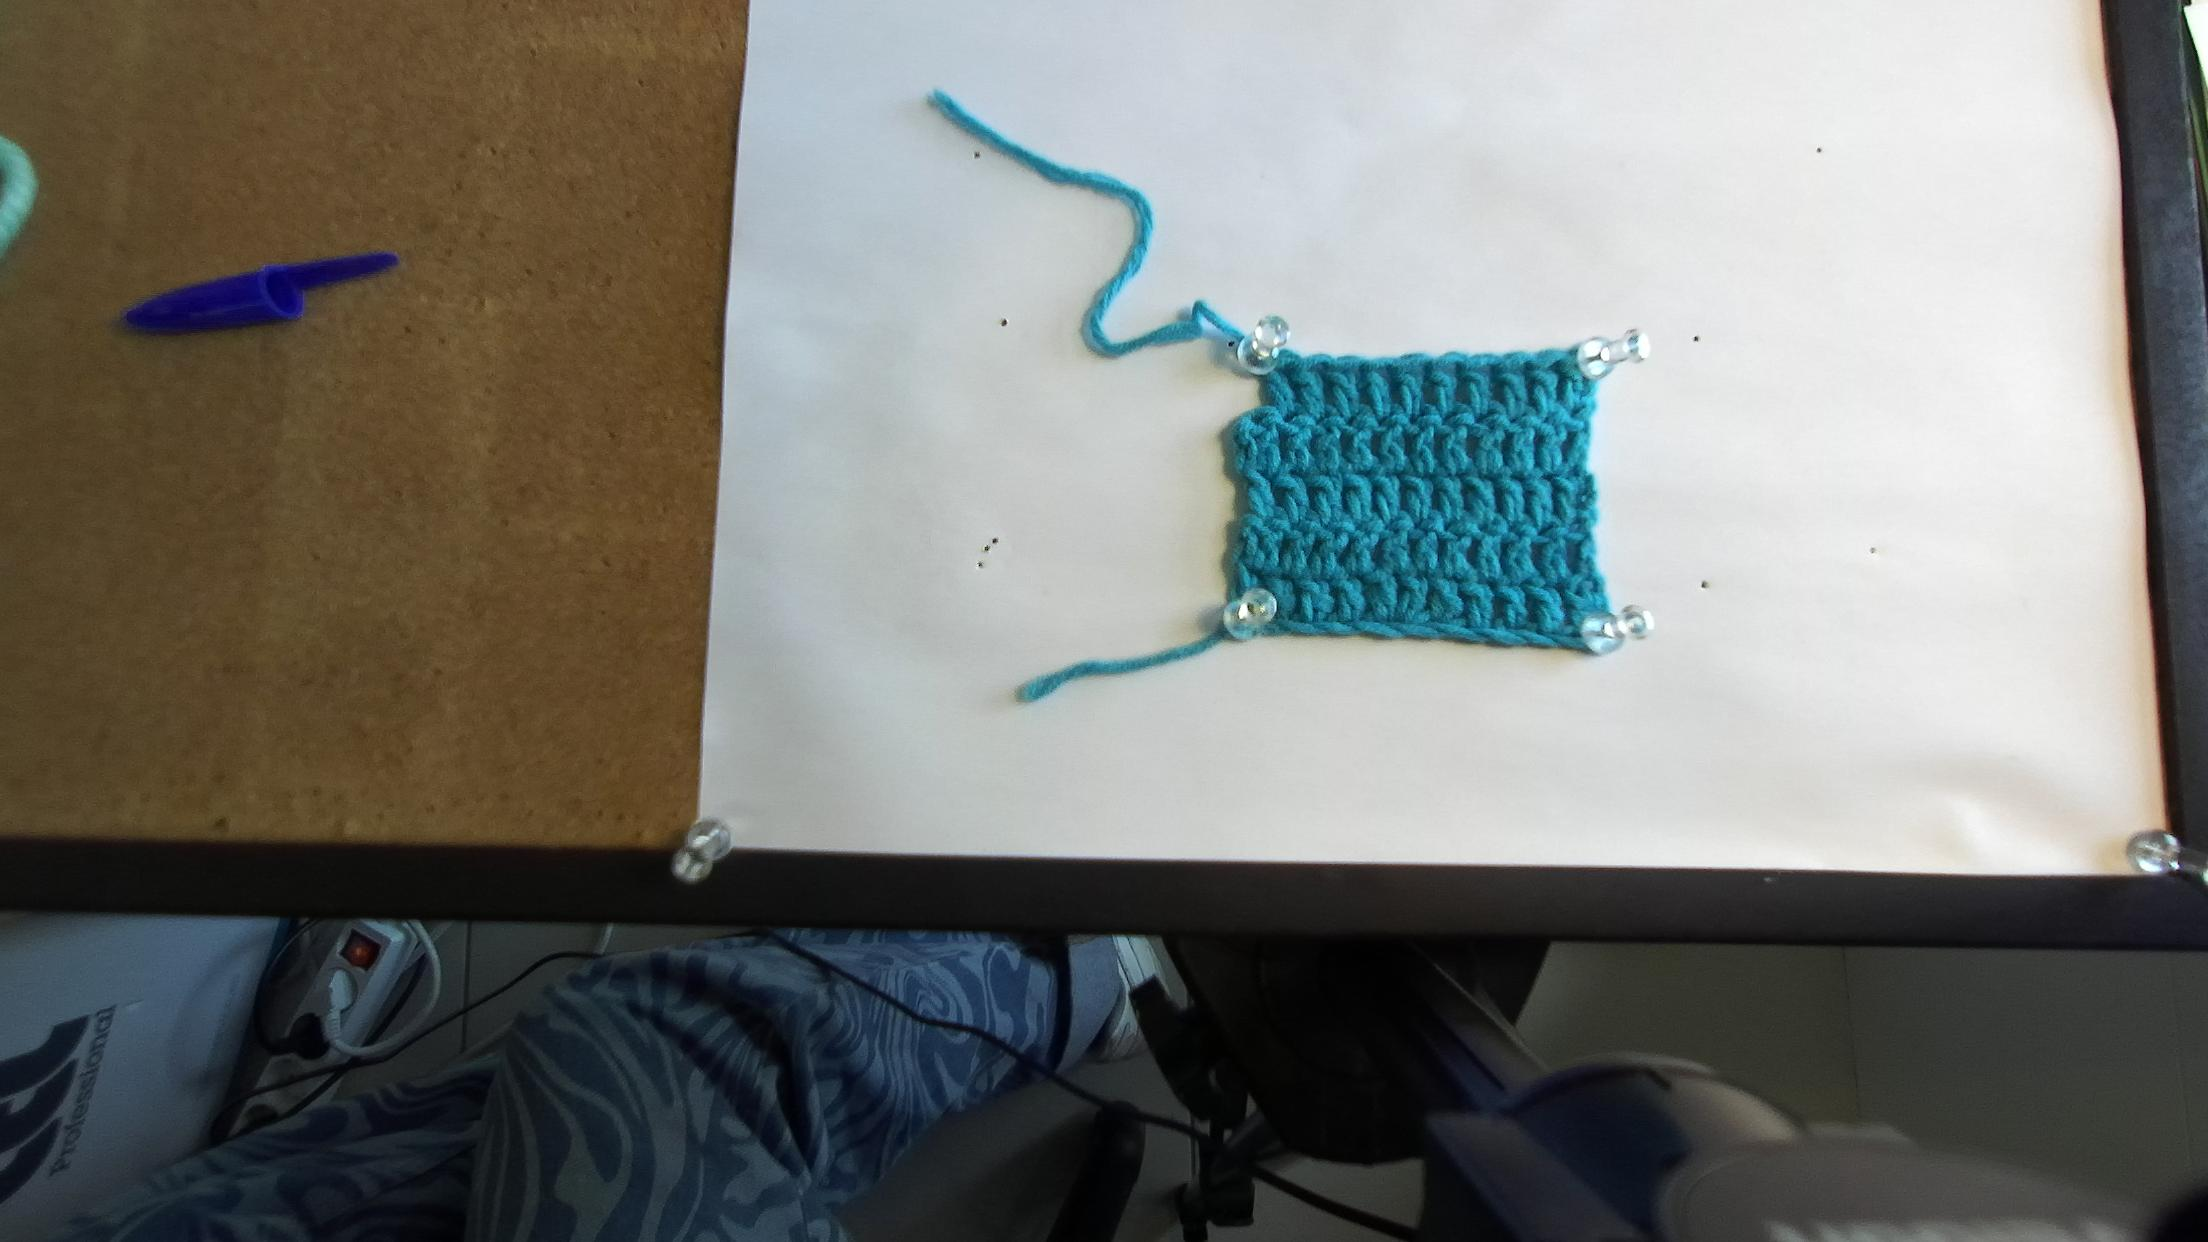hole: (1275, 361, 1297, 379), (1344, 364, 1365, 382), (1412, 362, 1432, 379), (1374, 365, 1394, 381), (1307, 362, 1327, 376), (1479, 364, 1495, 379), (1445, 362, 1463, 376), (1515, 361, 1530, 376), (1548, 359, 1560, 375)
swatch: (1219, 344, 1638, 660)
